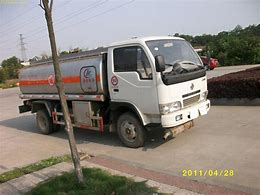oil truck: (12, 31, 215, 144)
